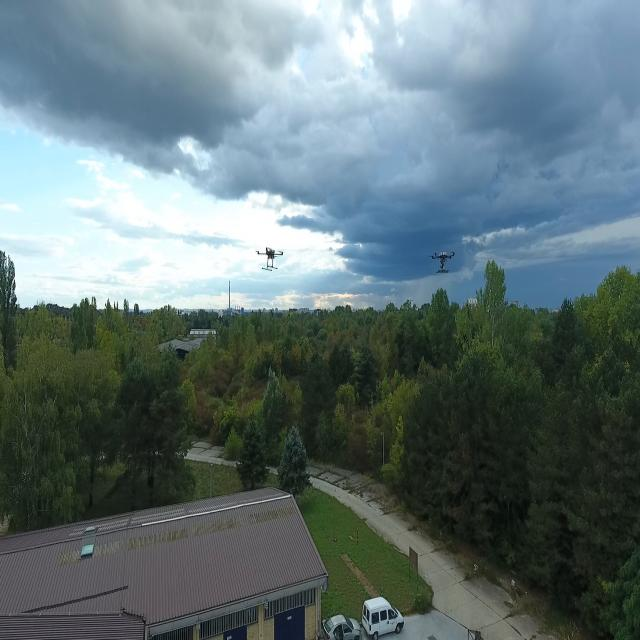UAV: (248, 242, 294, 274), (423, 245, 464, 272)
